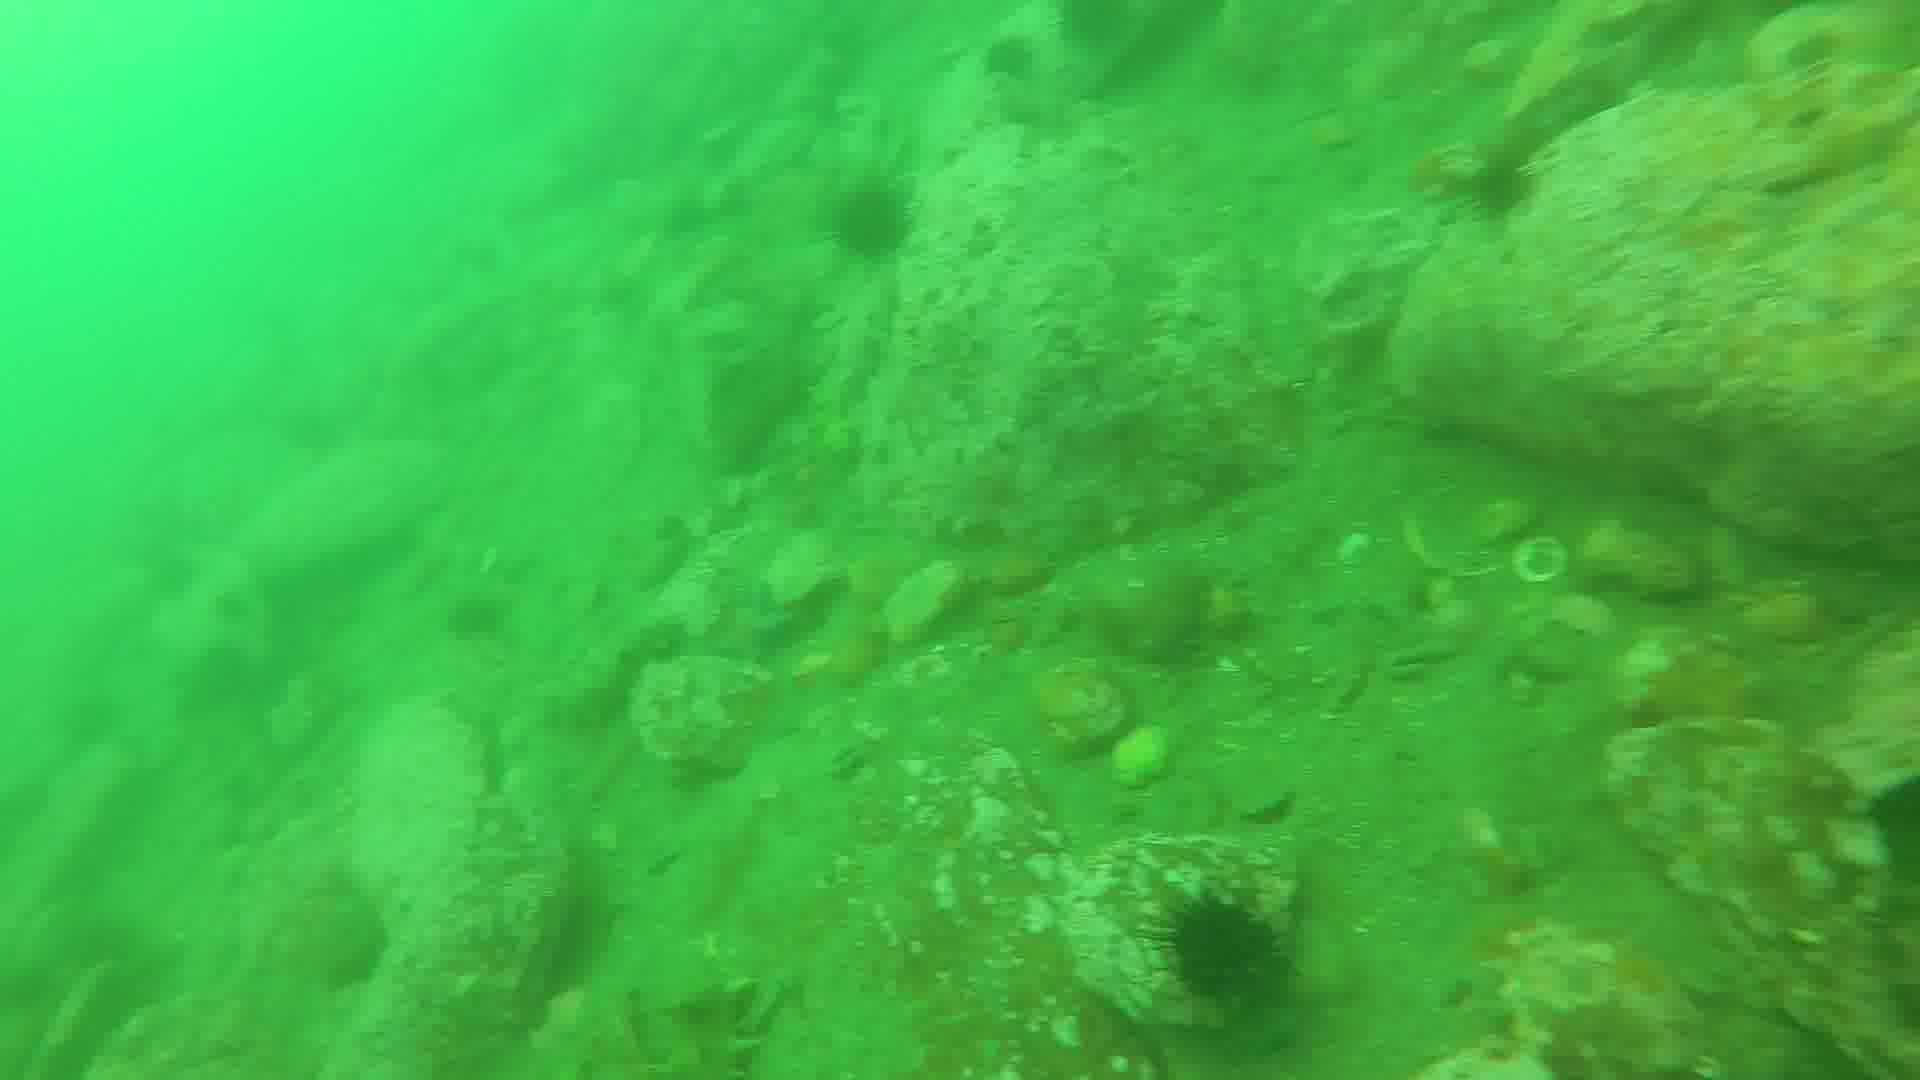echinus: (1153, 891, 1280, 1000), (833, 178, 911, 264), (1457, 152, 1538, 227)
holothurian: (661, 967, 764, 1080)
starfish: (713, 580, 799, 674)
